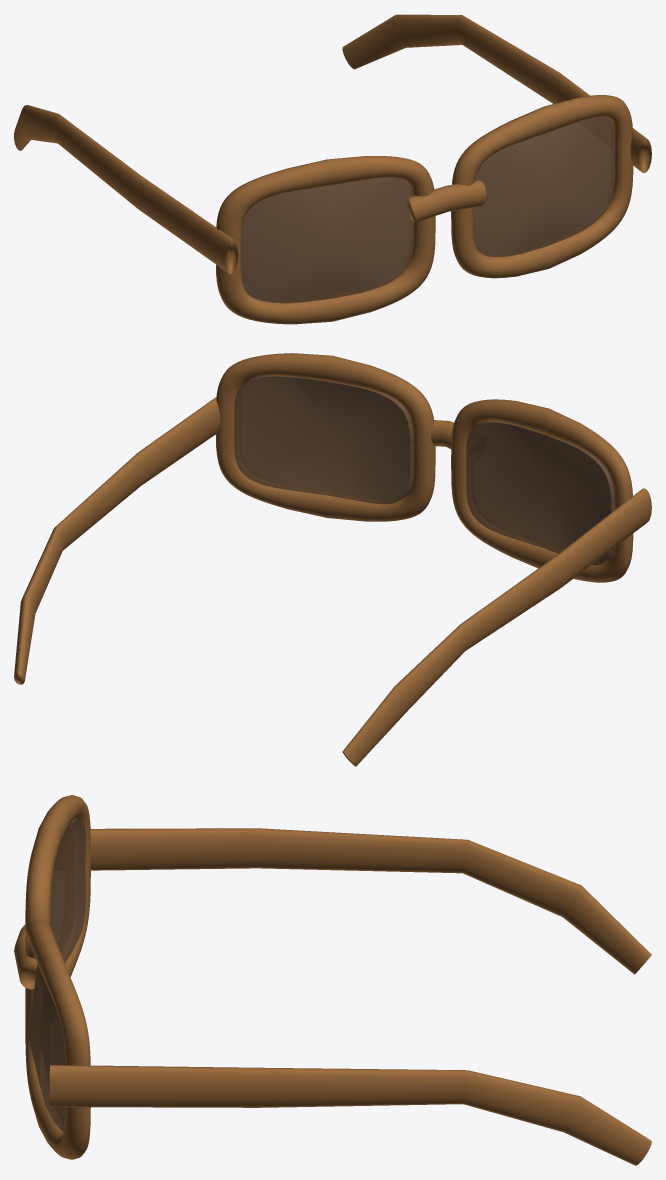
File: oculos-04-bold-tartaruga.glb
3 views of the same model, one above another, from view 1: azimuth 30°, elevation 25°; view 2: azimuth 150°, elevation 25°; view 3: azimuth 270°, elevation 25° (orthographic). The views are drawn at different scales.
Visible parts, largest first — view 1: M04_Lens_L, M04_Lens_R, M04_Rim_L, M04_Rim_R, TempleAcetate_R, TempleAcetate_L, M04_BoldBridge; view 2: M04_Lens_R, M04_Lens_L, M04_Rim_R, TempleAcetate_L, M04_Rim_L, TempleAcetate_R, M04_BoldBridge; view 3: TempleAcetate_R, TempleAcetate_L, M04_Rim_R, M04_Rim_L, M04_Lens_L, M04_Lens_R, M04_BoldBridge.
Part boxes in pixels (x1=…): M04_Lens_L: x1=241, y1=177, x2=413, y2=303; M04_Lens_R: x1=473, y1=116, x2=615, y2=256; M04_Rim_L: x1=216, y1=156, x2=435, y2=324; M04_Rim_R: x1=451, y1=95, x2=633, y2=278; TempleAcetate_R: x1=342, y1=14, x2=651, y2=173; TempleAcetate_L: x1=14, y1=105, x2=238, y2=273; M04_BoldBridge: x1=407, y1=180, x2=486, y2=222; M04_Lens_R: x1=234, y1=375, x2=412, y2=504; M04_Lens_L: x1=466, y1=421, x2=613, y2=565; M04_Rim_R: x1=215, y1=353, x2=435, y2=521; TempleAcetate_L: x1=342, y1=488, x2=651, y2=766; M04_Rim_L: x1=451, y1=399, x2=633, y2=582; TempleAcetate_R: x1=14, y1=397, x2=220, y2=684; M04_BoldBridge: x1=407, y1=420, x2=476, y2=459; TempleAcetate_R: x1=49, y1=1065, x2=651, y2=1165; TempleAcetate_L: x1=90, y1=828, x2=651, y2=974; M04_Rim_R: x1=25, y1=918, x2=90, y2=1159; M04_Rim_L: x1=25, y1=795, x2=90, y2=976; M04_Lens_L: x1=50, y1=819, x2=85, y2=962; M04_Lens_R: x1=28, y1=963, x2=64, y2=1131; M04_BoldBridge: x1=14, y1=925, x2=43, y2=989.
Bounding box in the file's own units: 0.14 × 0.05 × 0.1527.
